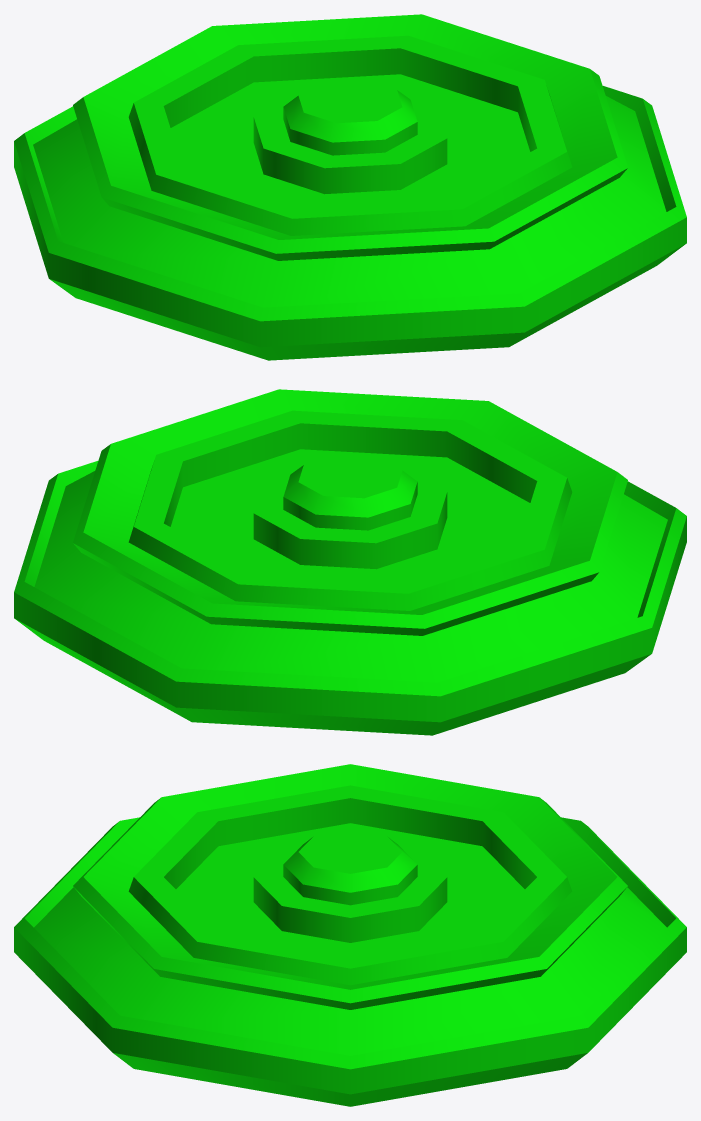
The model's file is Mine_mesh.fbx.
The picture shows the model from 3 angles, top to bottom: view 1: azimuth 30°, elevation 25°; view 2: azimuth 150°, elevation 25°; view 3: azimuth 270°, elevation 25°; orthographic projection. The views are drawn at different scales.
Parts seen in each view (by area): view 1: Mine_mesh; view 2: Mine_mesh; view 3: Mine_mesh.
Part boxes in pixels (<box>): Mine_mesh: <box>14,14,686,360</box>; Mine_mesh: <box>14,389,686,735</box>; Mine_mesh: <box>14,764,686,1106</box>.
Size of the model in its own units: 12.16 by 2.5 by 12.16.
